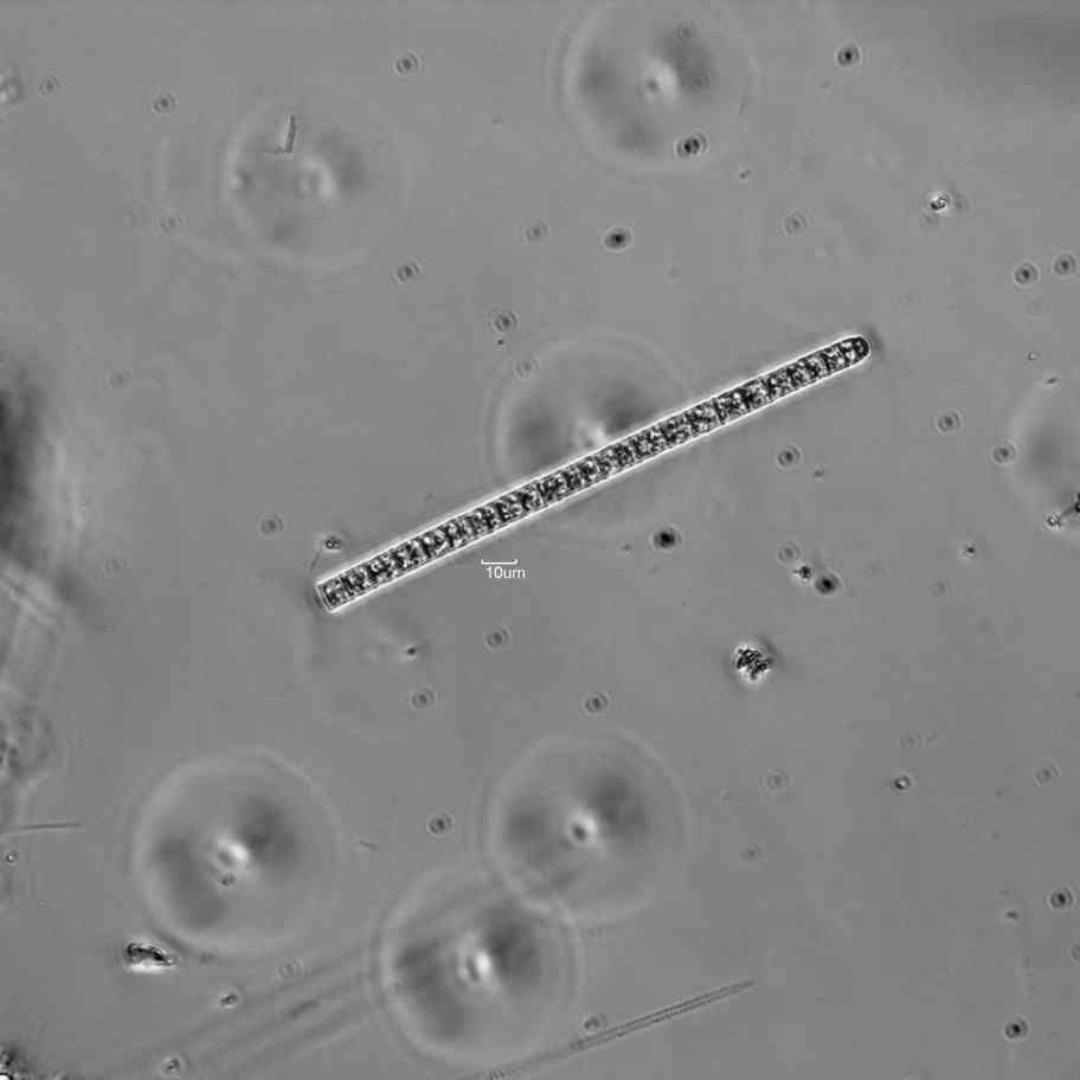trichodesmium_erythraeum: (316, 334, 872, 615)
